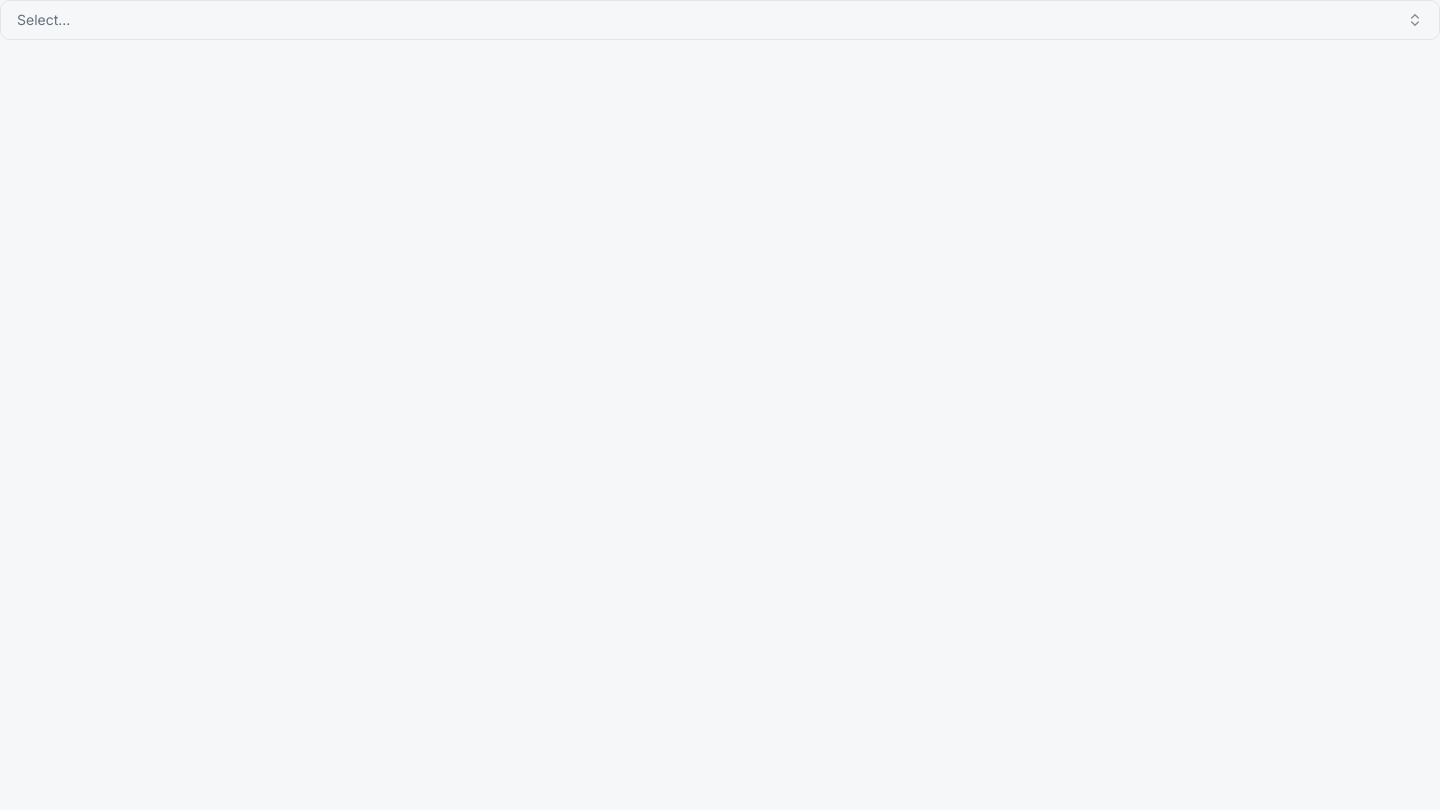
Combobox in its own-list mode › still filters the list it was handed, with keywords
The width and height of the screenshot is (1440, 810).
Click the dropdown: (44, 20) [0,0,1439,40]
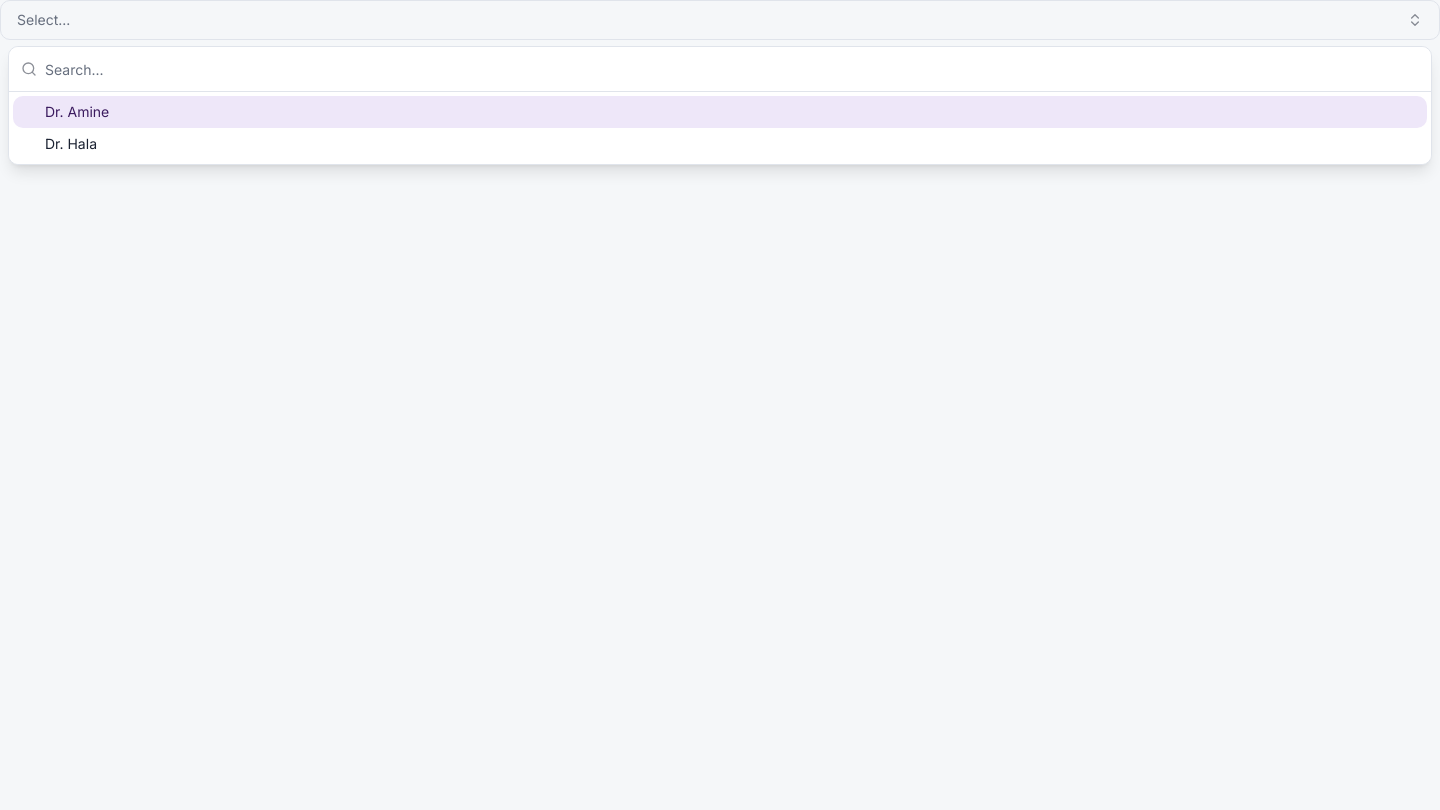
In the dropdown with placeholder "Search...": (732, 69) [45,47,1419,91], type "derm"
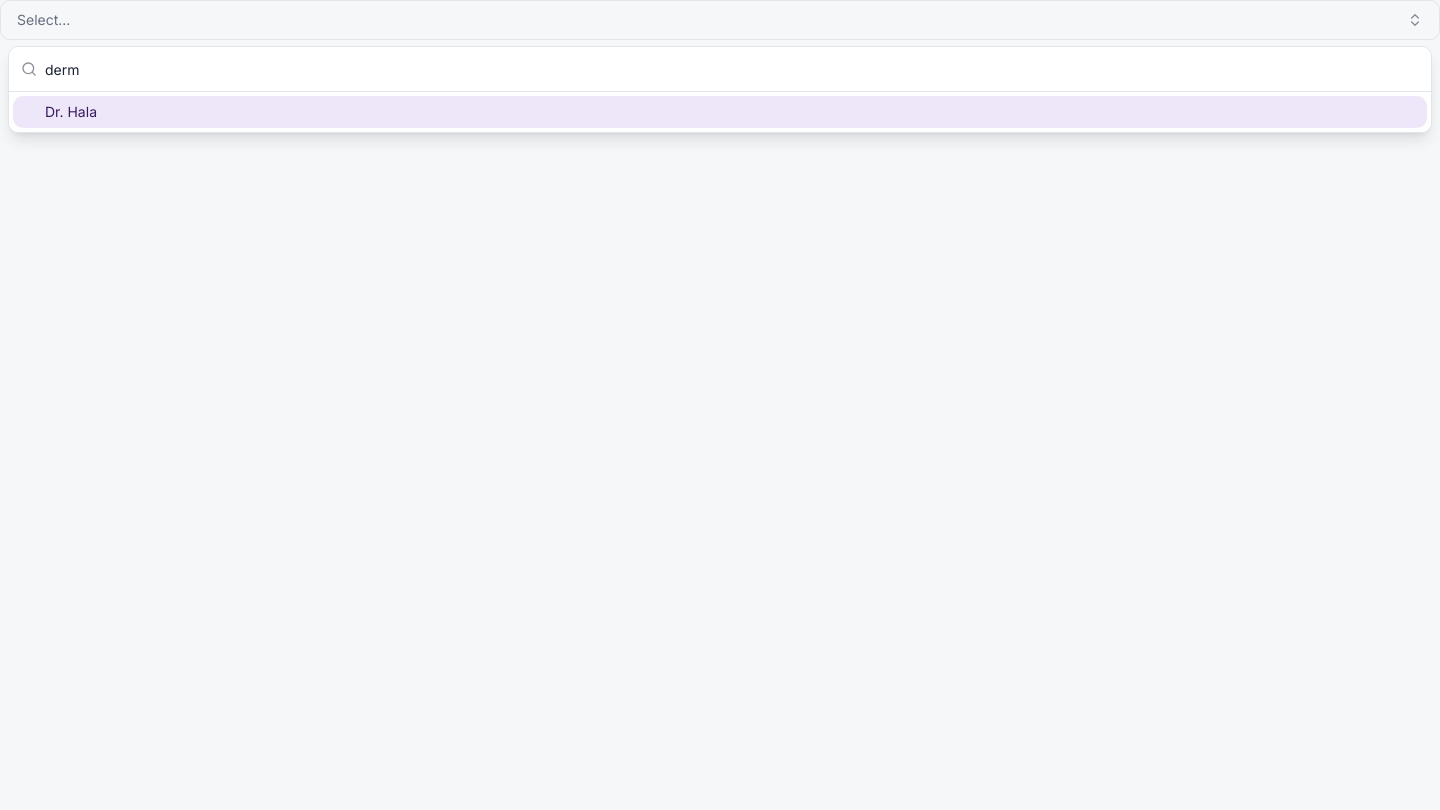
Now the text "Dr. Hala" is shown, box [45,102,97,122]
Now the option "Dr. Amine" is gone
